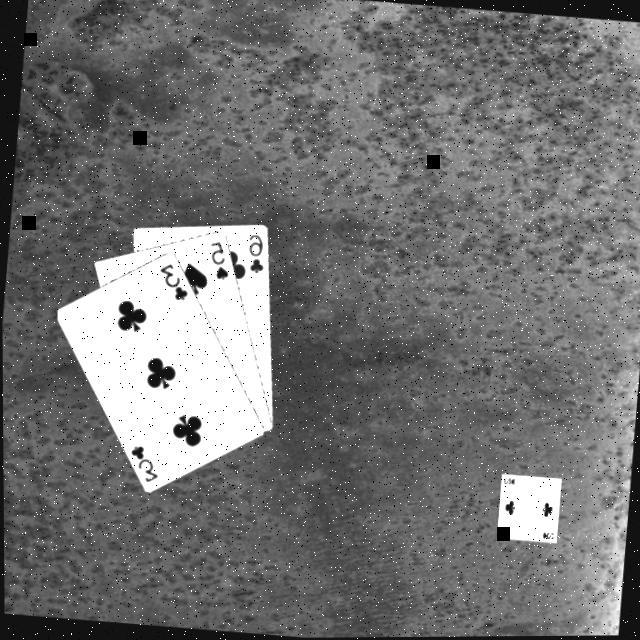3C: (123, 442, 163, 488), (154, 261, 194, 306)
5S: (204, 238, 234, 284)
6C: (243, 232, 270, 278)
